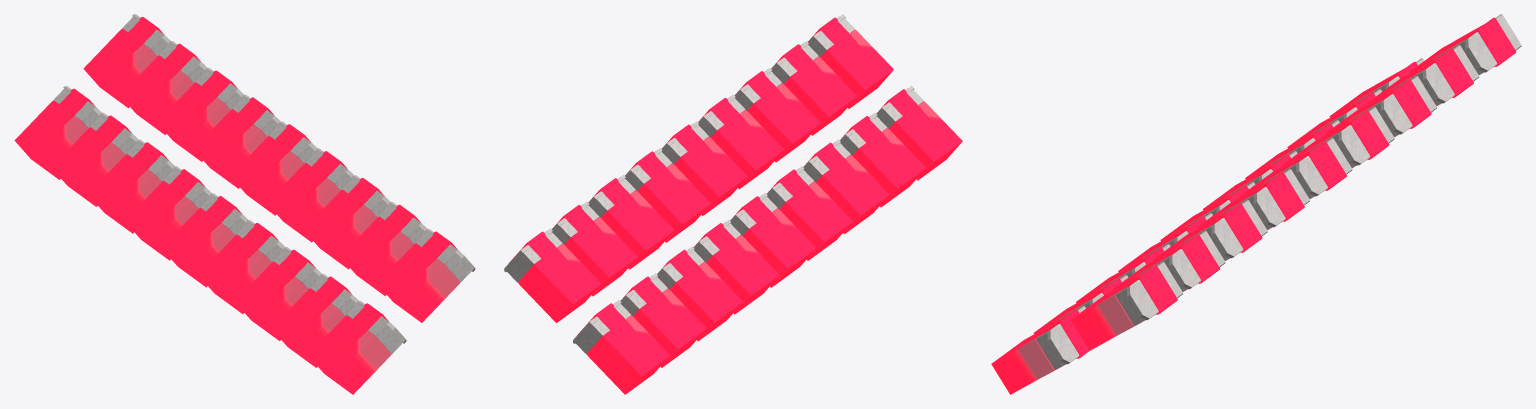
File: Red_TicTac.fbx
The picture shows the model from 3 angles, left to right: view 1: azimuth 30°, elevation 25°; view 2: azimuth 150°, elevation 25°; view 3: azimuth 330°, elevation 25°; orthographic projection. The views are drawn at different scales.
Visible parts, largest first — view 1: Red_TicTac17; view 2: Red_TicTac17; view 3: Red_TicTac17.
Part boxes in pixels (left/top/right/bottom): Red_TicTac17: left=14, top=14, right=475, bottom=394; Red_TicTac17: left=504, top=14, right=962, bottom=394; Red_TicTac17: left=991, top=14, right=1521, bottom=394.
Size of the model in its own units: 15.44 by 12.86 by 62.3.
